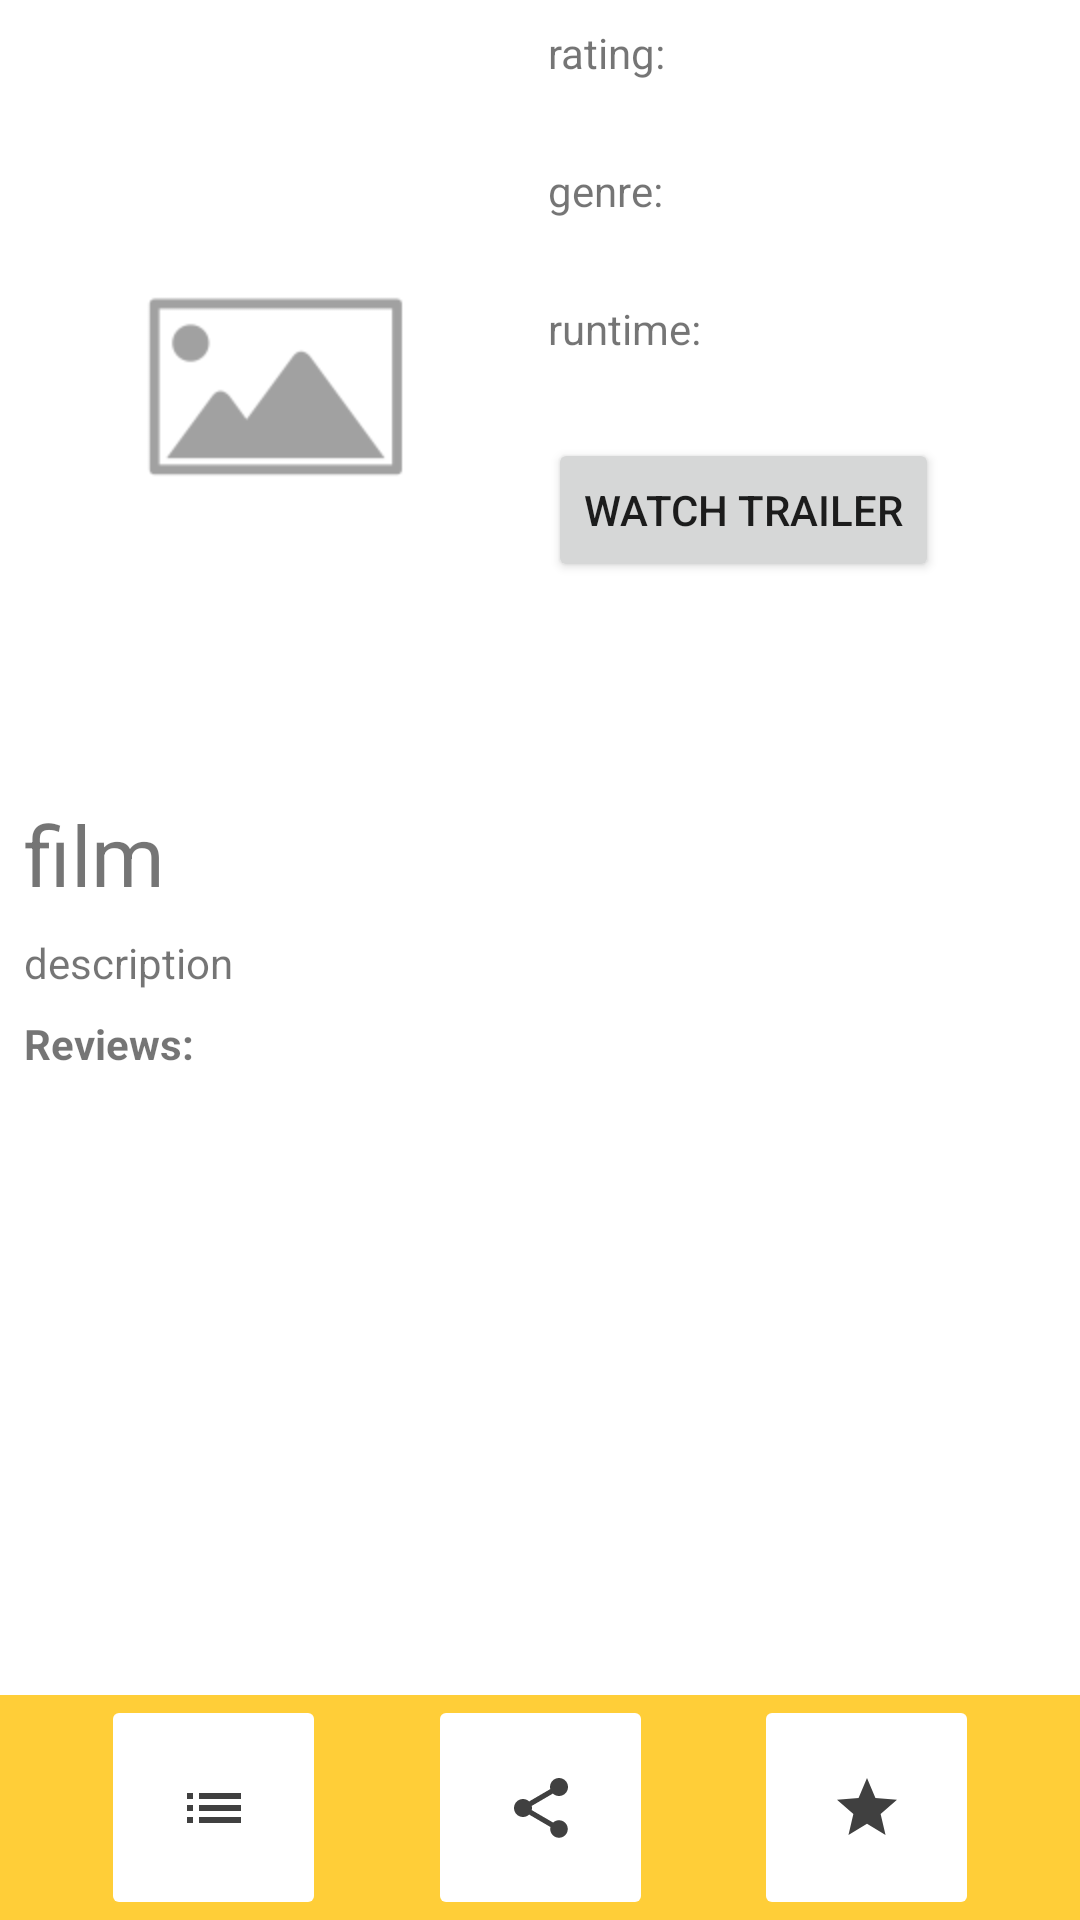

Named icons in this screenshot (1080w x 1920h) and their centers, (x=x, y=y):
favourite: (x=866, y=1807)
list: (x=213, y=1807)
share: (x=540, y=1807)
